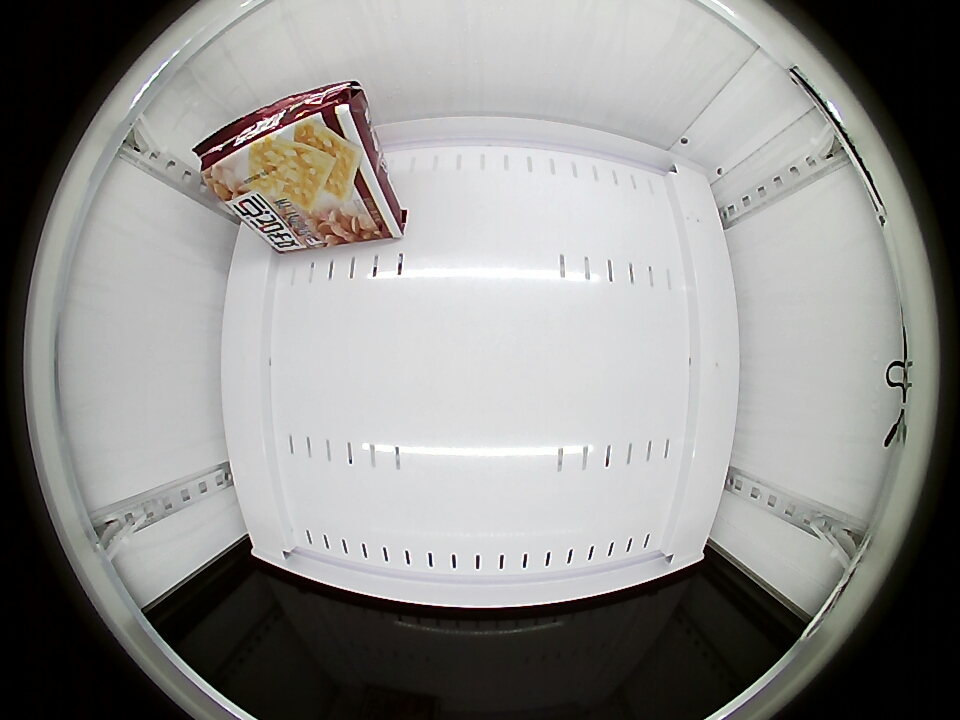haochidian: (191, 81, 360, 202)
